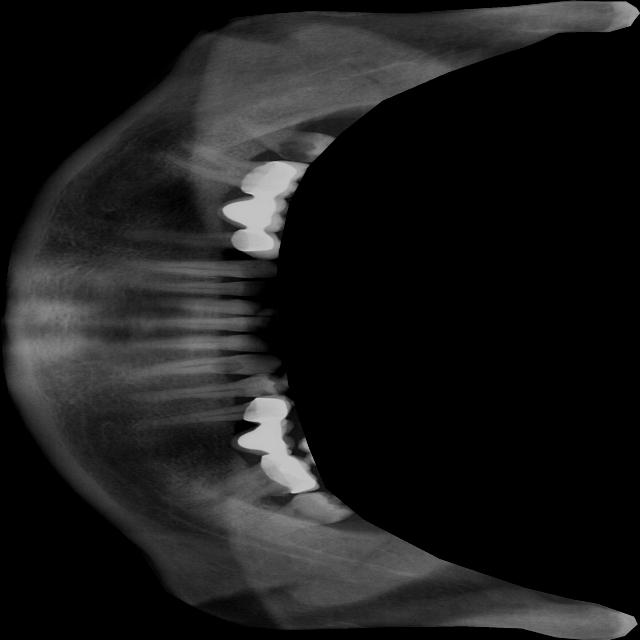mandibula: (0, 0, 639, 640)
